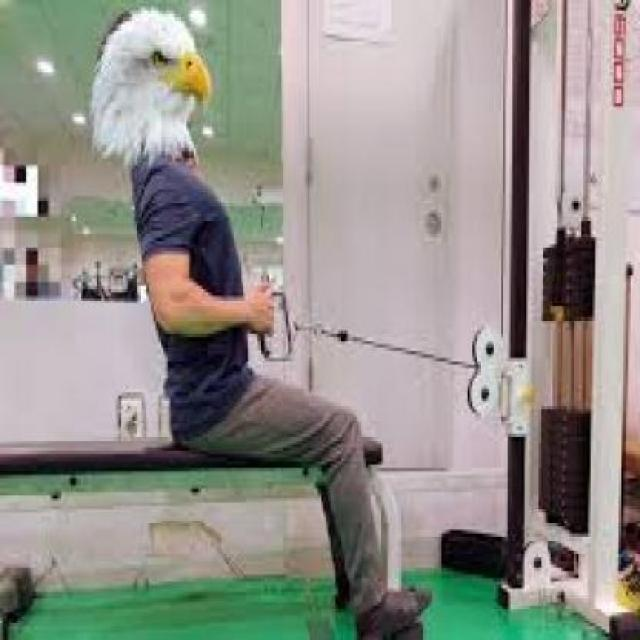Seated Cable Rows: (60, 0, 631, 640)
